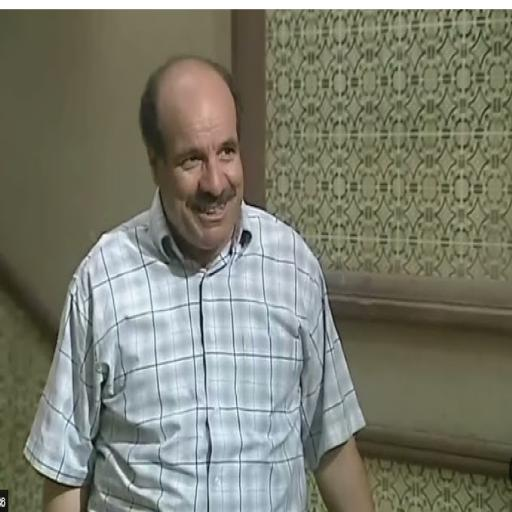beji_matrix: (139, 58, 244, 249)
